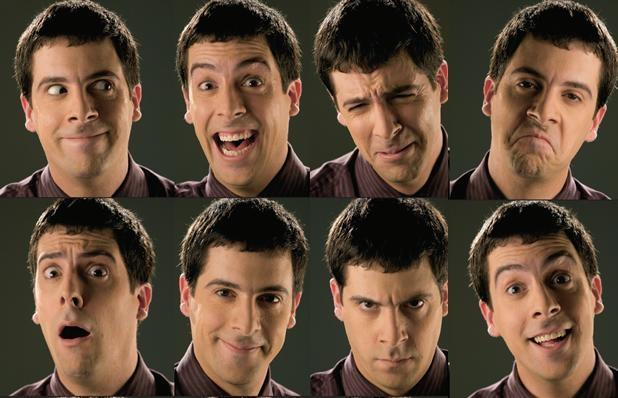feliz: (169, 31, 312, 193)
normal: (183, 214, 316, 383)
raiva: (328, 202, 455, 398)
surpreso: (18, 223, 150, 377)
triste: (315, 42, 453, 192)
